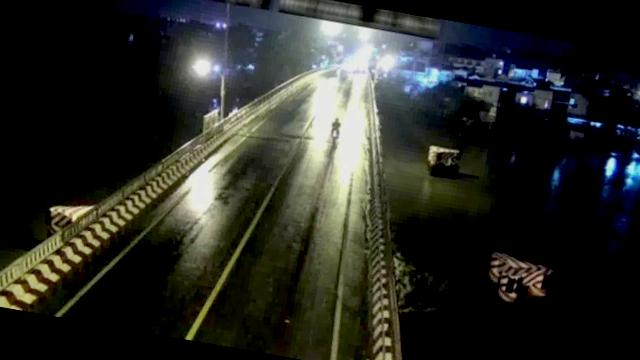Bike: (328, 114, 345, 142)
